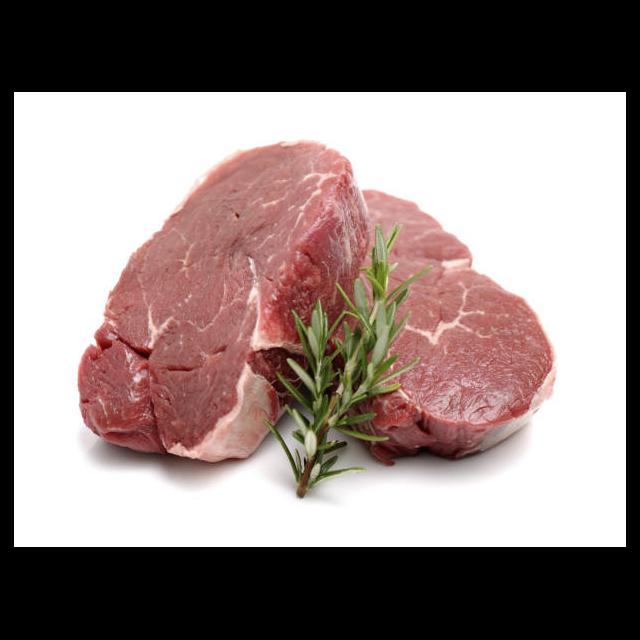beef: (77, 138, 373, 466), (326, 188, 558, 470)
